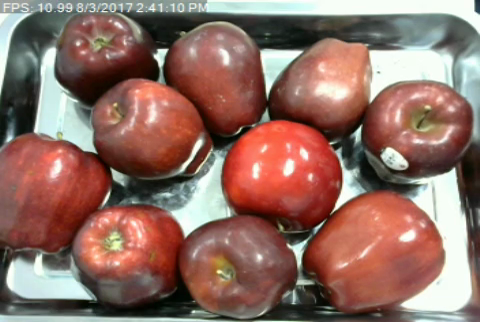Apple: (301, 186, 449, 317), (216, 118, 345, 235), (0, 128, 115, 259), (174, 211, 302, 322), (159, 18, 271, 138), (89, 75, 214, 181), (67, 201, 187, 309), (360, 75, 475, 180), (52, 6, 163, 110), (265, 36, 375, 139)
